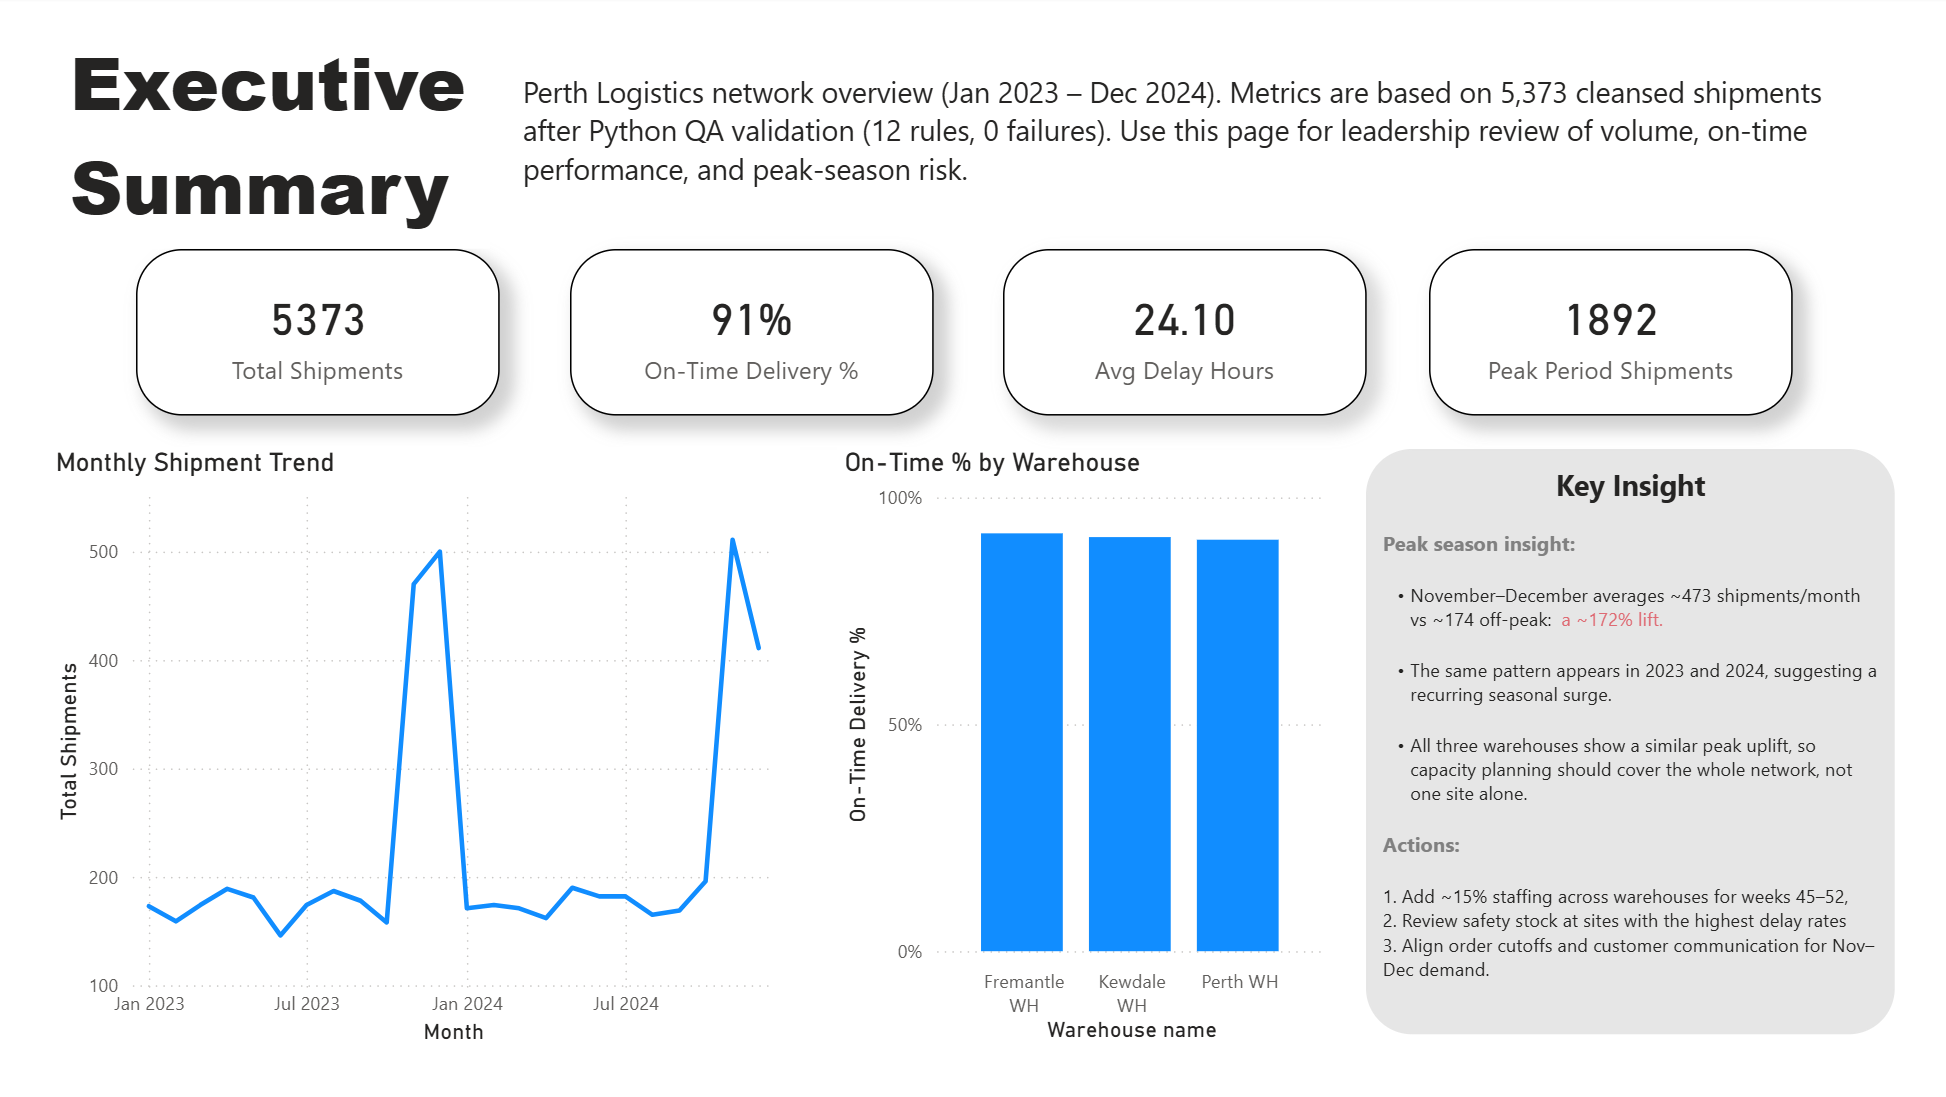

This screenshot's page, from the dashboard's own definition file:
{"tool":"powerbi","page":{"name":"Executive Summary","canvas":[1280,720],"ordinal":0},"visuals":[{"type":"card","fields":{"Values":["mart fact_shipments.Total Shipments"]},"box":[92.9,164.9,237.5,109.3],"z":0},{"type":"card","fields":{"Values":["mart dim_customer.On-Time Delivery %"]},"box":[376.9,164.9,237.5,109.3],"z":1000},{"type":"card","fields":{"Values":["mart dim_customer.Peak Period Shipments"]},"box":[939.1,164.9,237.5,109.3],"z":2000},{"type":"lineChart","title":"Monthly Shipment Trend","fields":{"Y":["mart fact_shipments.Total Shipments"],"Category":["mart dim_date.date_key.변형.날짜 계층.연도","mart dim_date.date_key.변형.날짜 계층.월"]},"box":[35.3,294.5,492.1,395.3],"z":3000},{"type":"clusteredColumnChart","title":"On-Time % by Warehouse","fields":{"Category":["mart dim_warehouse.name"],"Y":["mart dim_customer.On-Time Delivery %"]},"box":[551.7,294.5,325.2,393.9],"z":4000},{"type":"textbox","box":[897.8,295.8,346.2,382.8],"z":5000},{"type":"card","fields":{"Values":["mart dim_customer.Avg Delay Hours"]},"box":[660.3,164.9,237.5,109.3],"z":6000},{"type":"textbox","box":[44.6,16,279.9,149.3],"z":7000},{"type":"textbox","box":[340.9,44.5,903.1,91.6],"z":8000}]}

Visuals, with their boxes in screenshot pixels (x1, y1, x2, y2), scaled from the page's 1280x720 canvas onto the 1946x1097 screenshot:
card - mart fact_shipments.Total Shipments: <box>141,251,502,418</box>
card - mart dim_customer.On-Time Delivery %: <box>573,251,934,418</box>
card - mart dim_customer.Peak Period Shipments: <box>1428,251,1789,418</box>
"Monthly Shipment Trend" lineChart: <box>54,449,802,1051</box>
"On-Time % by Warehouse" clusteredColumnChart: <box>839,449,1333,1049</box>
textbox: <box>1365,451,1891,1034</box>
card - mart dim_customer.Avg Delay Hours: <box>1004,251,1365,418</box>
textbox: <box>68,24,493,252</box>
textbox: <box>518,68,1891,207</box>
